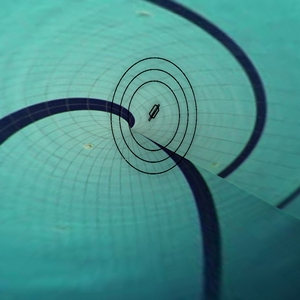circle: (103, 53, 204, 178)
submarine: (146, 103, 168, 124)
